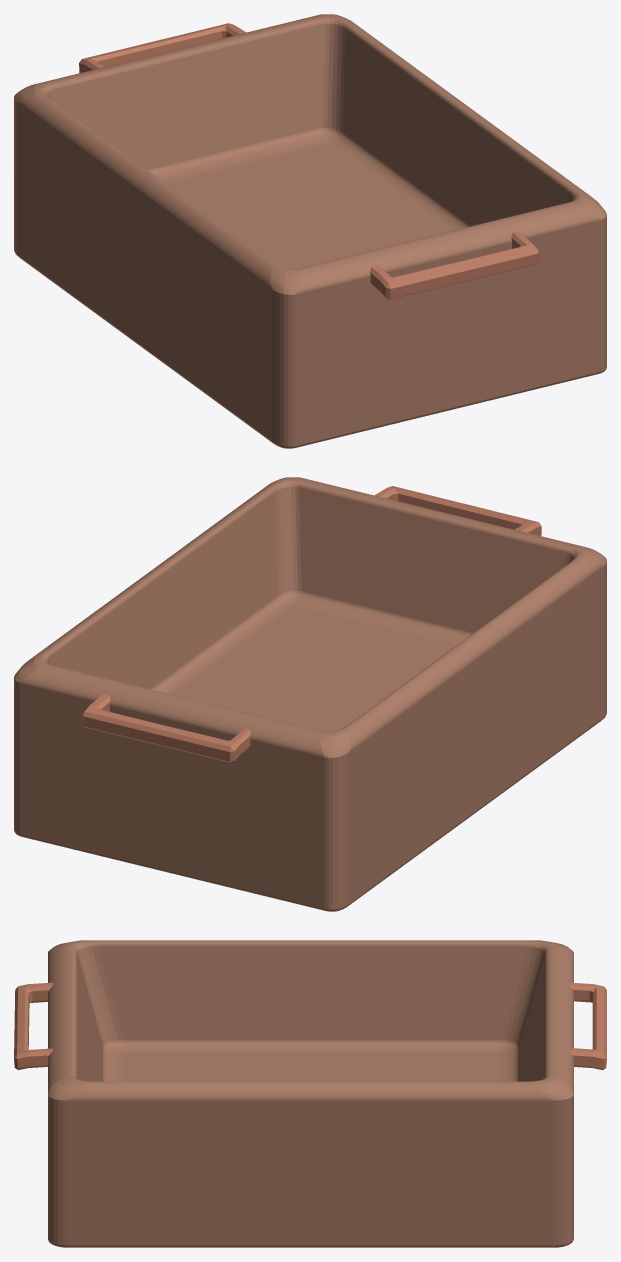
Rendered from applebin.fbx.
3 views of the same model, one above another, from view 1: azimuth 30°, elevation 25°; view 2: azimuth 150°, elevation 25°; view 3: azimuth 270°, elevation 25° (orthographic). The views are drawn at different scales.
Visible parts, largest first — view 1: Cube, Cube.001, Cube.002; view 2: Cube, Cube.002, Cube.001; view 3: Cube, Cube.001, Cube.002.
Part boxes in pixels (<box>): Cube: <box>14,14,606,448</box>; Cube.001: <box>370,231,539,299</box>; Cube.002: <box>79,23,246,73</box>; Cube: <box>14,477,606,911</box>; Cube.002: <box>82,694,250,762</box>; Cube.001: <box>374,486,541,535</box>; Cube: <box>48,940,573,1247</box>; Cube.001: <box>14,982,52,1069</box>; Cube.002: <box>568,982,606,1070</box>.
Bounding box in the file's own units: 332 × 164 × 541.
